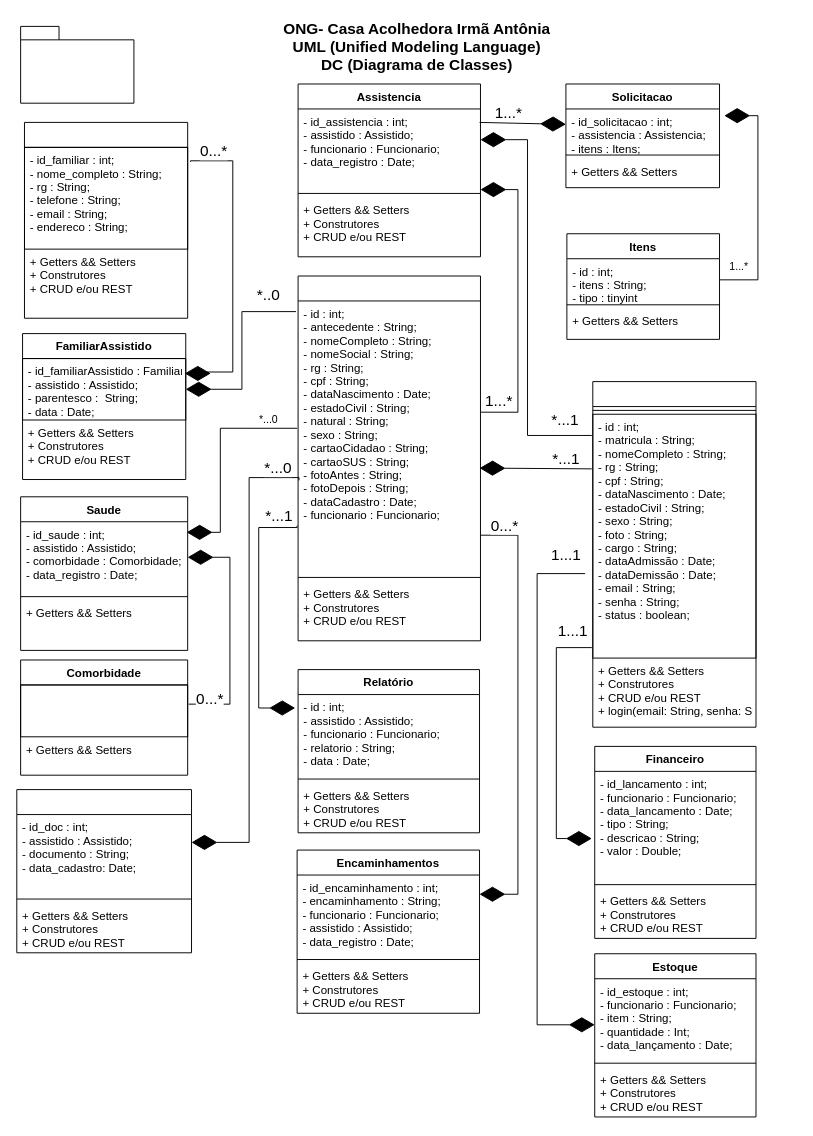
Image size: 813x1136. Some labels were removed from this diagram. Each missing label, with the box of its shape:
- id_comorbidade : Int; - comorbidade : String; - tipo : boolean;: (20, 684, 188, 737)
Assistido: (297, 275, 480, 641)
DocsAssistidos: (16, 789, 192, 953)
Familiares: (24, 121, 188, 318)
Funcionario: (592, 381, 756, 727)
model: (20, 25, 134, 103)
